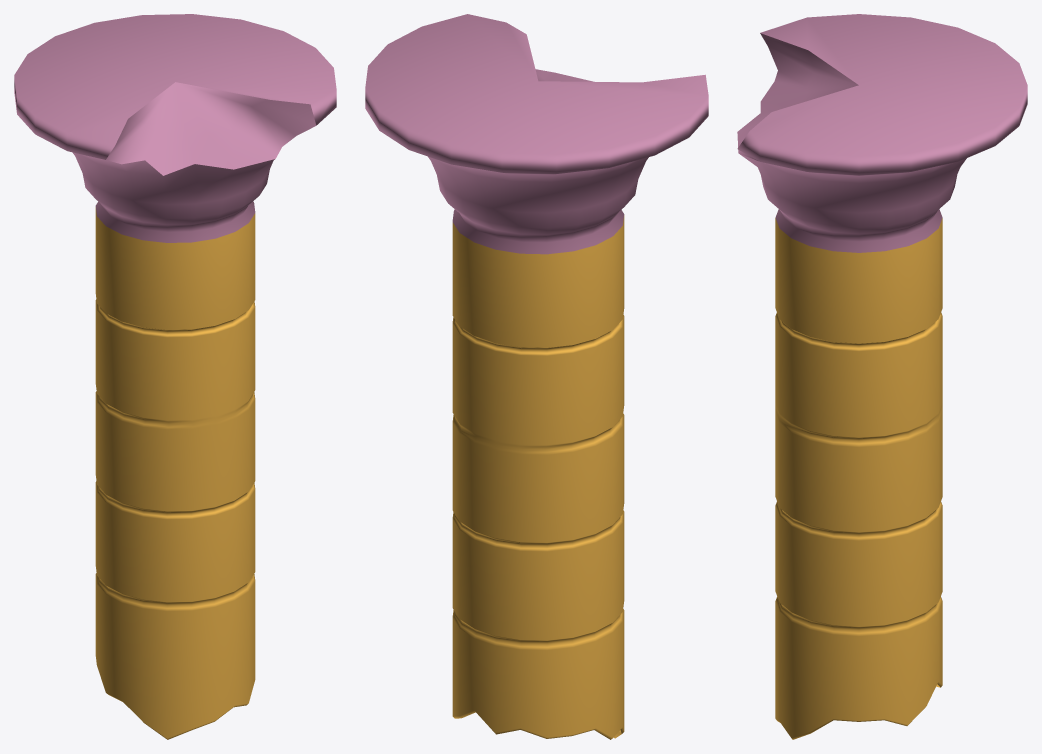
File: BrokenColumn.fbx
The picture shows the model from 3 angles, left to right: view 1: azimuth 30°, elevation 25°; view 2: azimuth 150°, elevation 25°; view 3: azimuth 270°, elevation 25°; orthographic projection. The views are drawn at different scales.
Visible parts, largest first — view 1: pCylinder1; view 2: pCylinder1; view 3: pCylinder1.
Part boxes in pixels (box(x1,y1,x2,y2)): pCylinder1: box(14, 14, 336, 739); pCylinder1: box(365, 14, 708, 739); pCylinder1: box(737, 14, 1027, 739).
Bounding box in the file's own units: 16.16 × 34.39 × 13.91.
